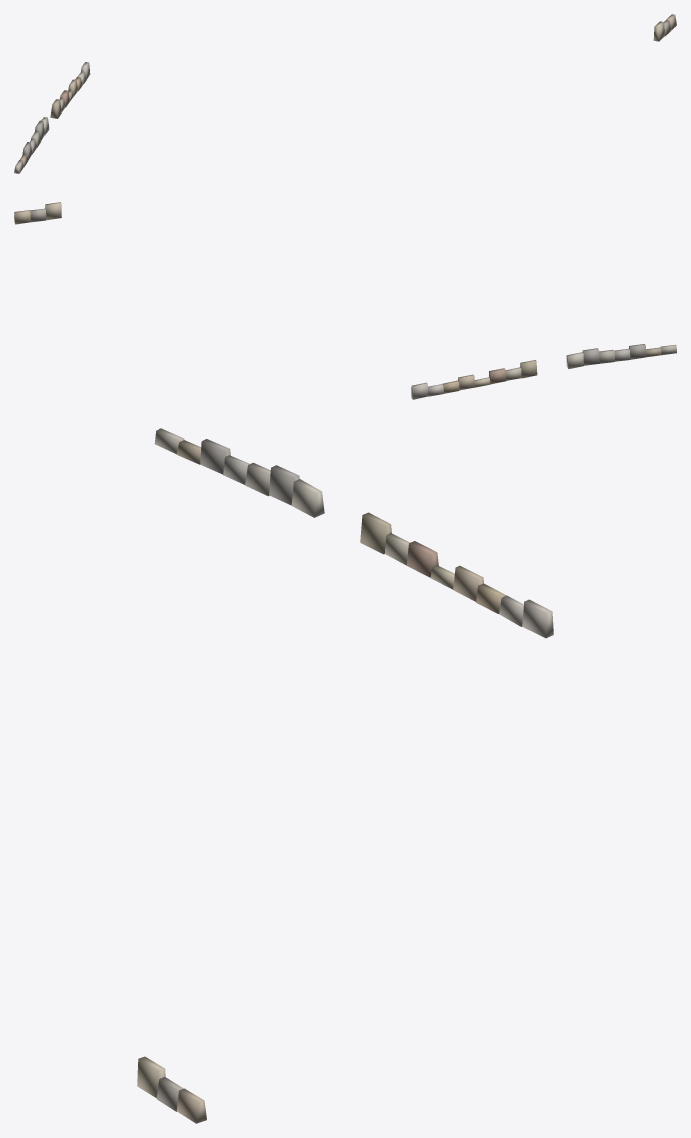
The model's file is farm_25_8_far.glb.
3 views of the same model, one above another, from view 1: azimuth 30°, elevation 25°; view 2: azimuth 150°, elevation 25°; view 3: azimuth 270°, elevation 25° (orthographic). The views are drawn at different scales.
Parts seen in each view (by area): view 1: geometry_0; view 2: geometry_0; view 3: geometry_0.
Boxes of the visible parts, <box> form: geometry_0: <box>14,14,676,173</box>; geometry_0: <box>14,202,676,399</box>; geometry_0: <box>137,428,553,1123</box>.
Bounding box in the file's own units: 74.68 × 3.72 × 20.58.
